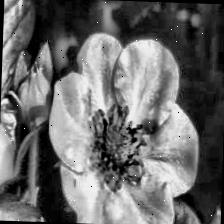Blossom Blight: (86, 100, 152, 194)
